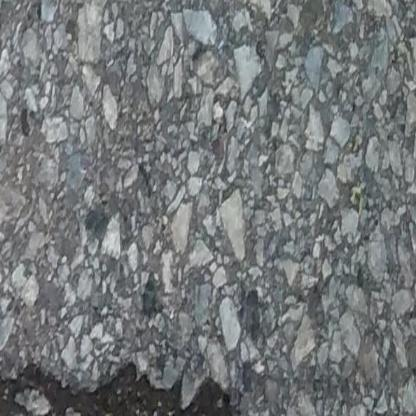Cracks: (0, 354, 256, 416)
